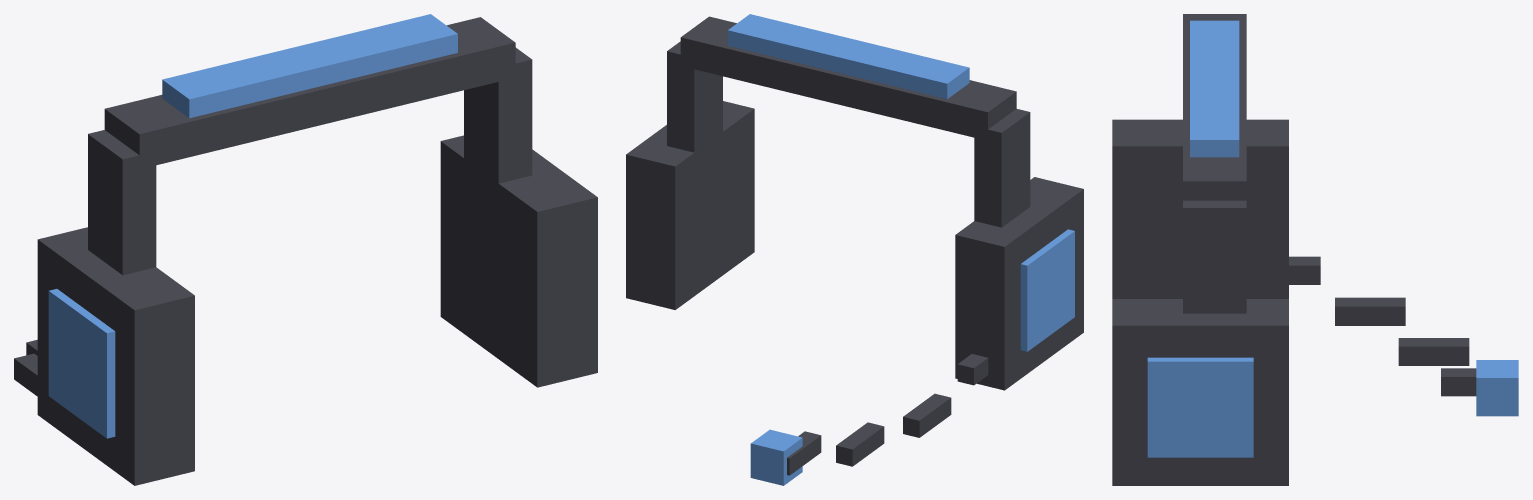
File: fone_ouvido_headset.glb
3 views of the same model, side by side, from view 1: azimuth 30°, elevation 25°; view 2: azimuth 150°, elevation 25°; view 3: azimuth 270°, elevation 25° (orthographic). The views are drawn at different scales.
Parts seen in each view (by area): view 1: fone_ouvido_headset; view 2: fone_ouvido_headset; view 3: fone_ouvido_headset.
Boxes of the visible parts, x1,y1,x2,y2 form: fone_ouvido_headset: [14, 14, 597, 485]; fone_ouvido_headset: [626, 14, 1083, 485]; fone_ouvido_headset: [1112, 14, 1518, 485].
Bounding box in the file's own units: 0.715 × 0.557 × 0.575.
